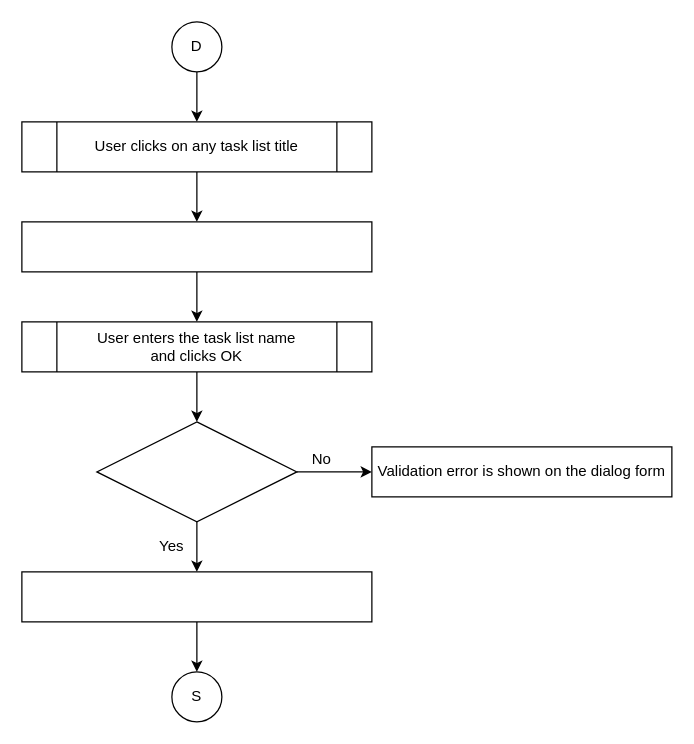
Some shapes in this 694 by 744 pixel diagram are drawn without their labels. Here are the shapes that lost their labels. From the top down, the box of each, then its label:
(21, 221, 372, 272): Edit task list dialog opens
(96, 421, 297, 522): Is the task list name valid?
(21, 571, 372, 622): Dialog is closed and the task list is updated
